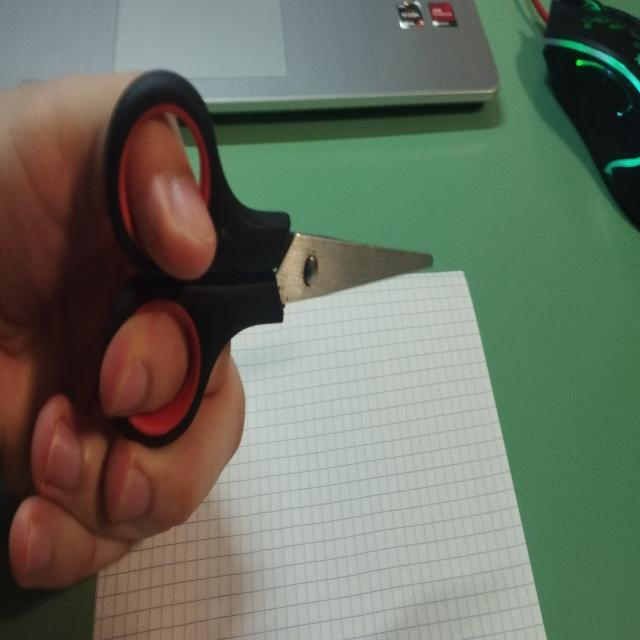tesoura: (98, 61, 438, 455)
